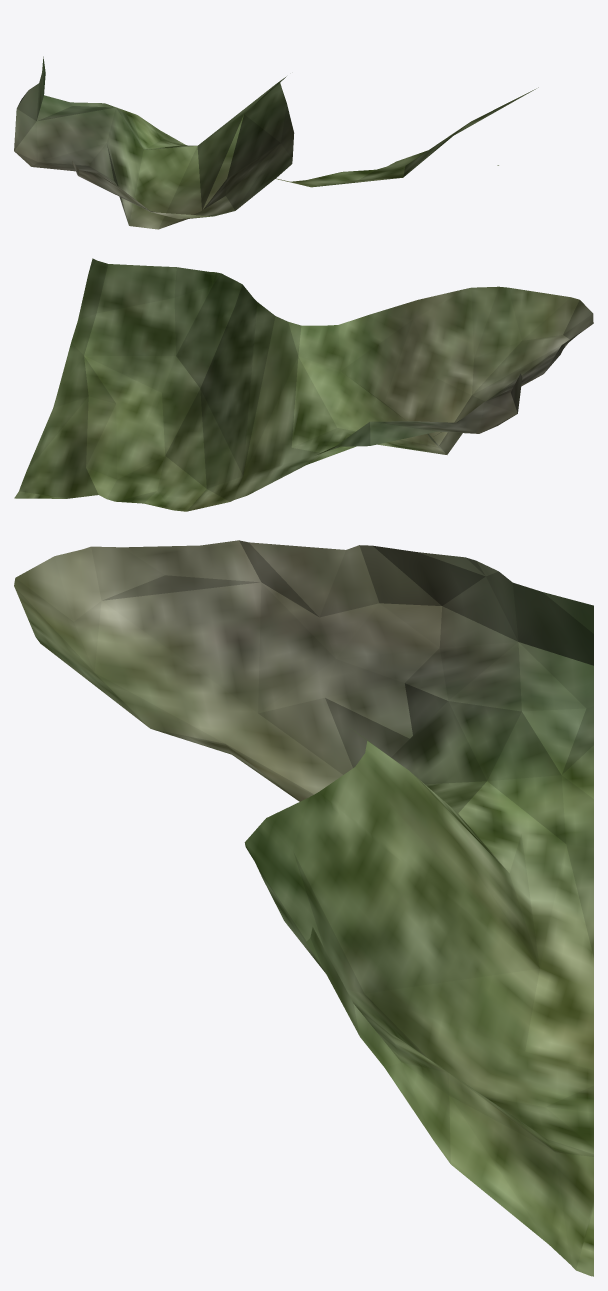
The picture shows the model from 3 angles, top to bottom: view 1: azimuth 30°, elevation 25°; view 2: azimuth 150°, elevation 25°; view 3: azimuth 270°, elevation 25°; orthographic projection. The views are drawn at different scales.
Bounding box in the file's own units: 1.95 × 0.7546 × 1.19.
1 material, 1 textured.
